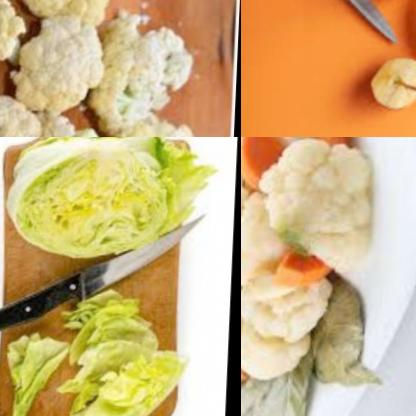cayliflower: (0, 0, 224, 137), (250, 137, 383, 278), (241, 268, 327, 389), (241, 167, 287, 301)
salad: (0, 137, 228, 265), (69, 285, 198, 416), (0, 329, 83, 416)
